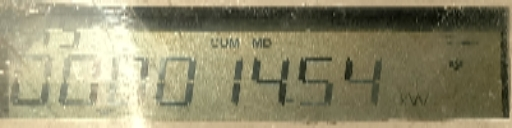0: (106, 43, 154, 115), (1, 52, 54, 113), (54, 45, 104, 108), (161, 39, 202, 108)
1: (228, 50, 250, 115)
4: (337, 41, 385, 115), (252, 50, 289, 119)
5: (298, 41, 337, 119)
d: (285, 92, 296, 107)
